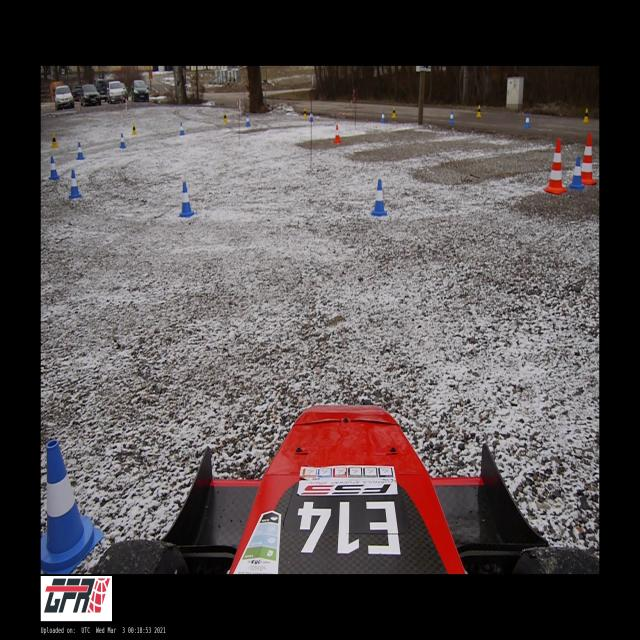blue_cone: (41, 440, 103, 574), (178, 182, 196, 217), (371, 179, 387, 216), (569, 156, 584, 189), (68, 170, 82, 198), (49, 157, 60, 179), (76, 142, 85, 160), (120, 133, 126, 148), (524, 114, 530, 128), (180, 122, 184, 136), (450, 110, 454, 124), (381, 110, 385, 122), (246, 115, 250, 126), (310, 112, 314, 122)
large_orange_cone: (544, 138, 568, 194), (581, 133, 597, 185)
orange_cone: (334, 125, 342, 143)
yellow_cone: (51, 133, 58, 148), (583, 108, 589, 123), (476, 105, 481, 118), (132, 123, 136, 135), (303, 107, 307, 119), (223, 112, 227, 123), (392, 107, 396, 118)
